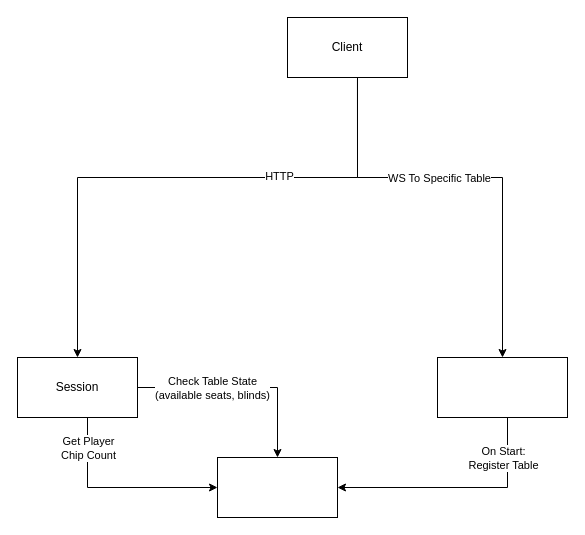
Some shapes in this 585 by 535 pixel diagram are drawn without their labels. The centre of each missing label's shape, as x and y in pixels:
DB: the point at 277,487
Room (handles many tables): the point at 502,387
